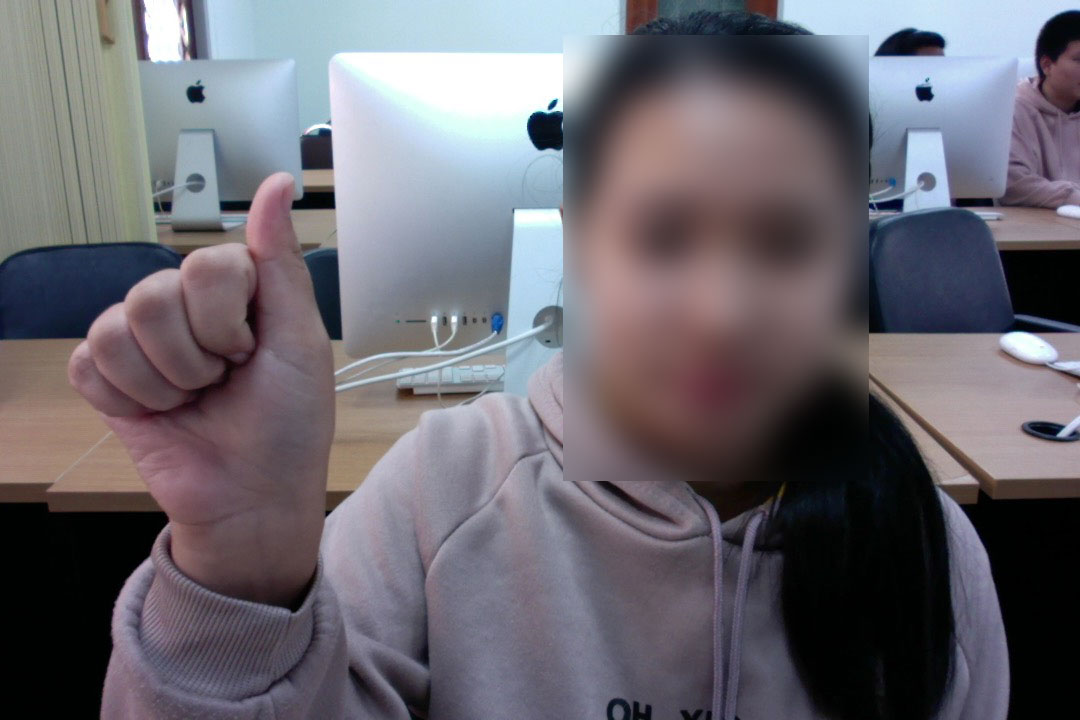or: (62, 160, 339, 568)
